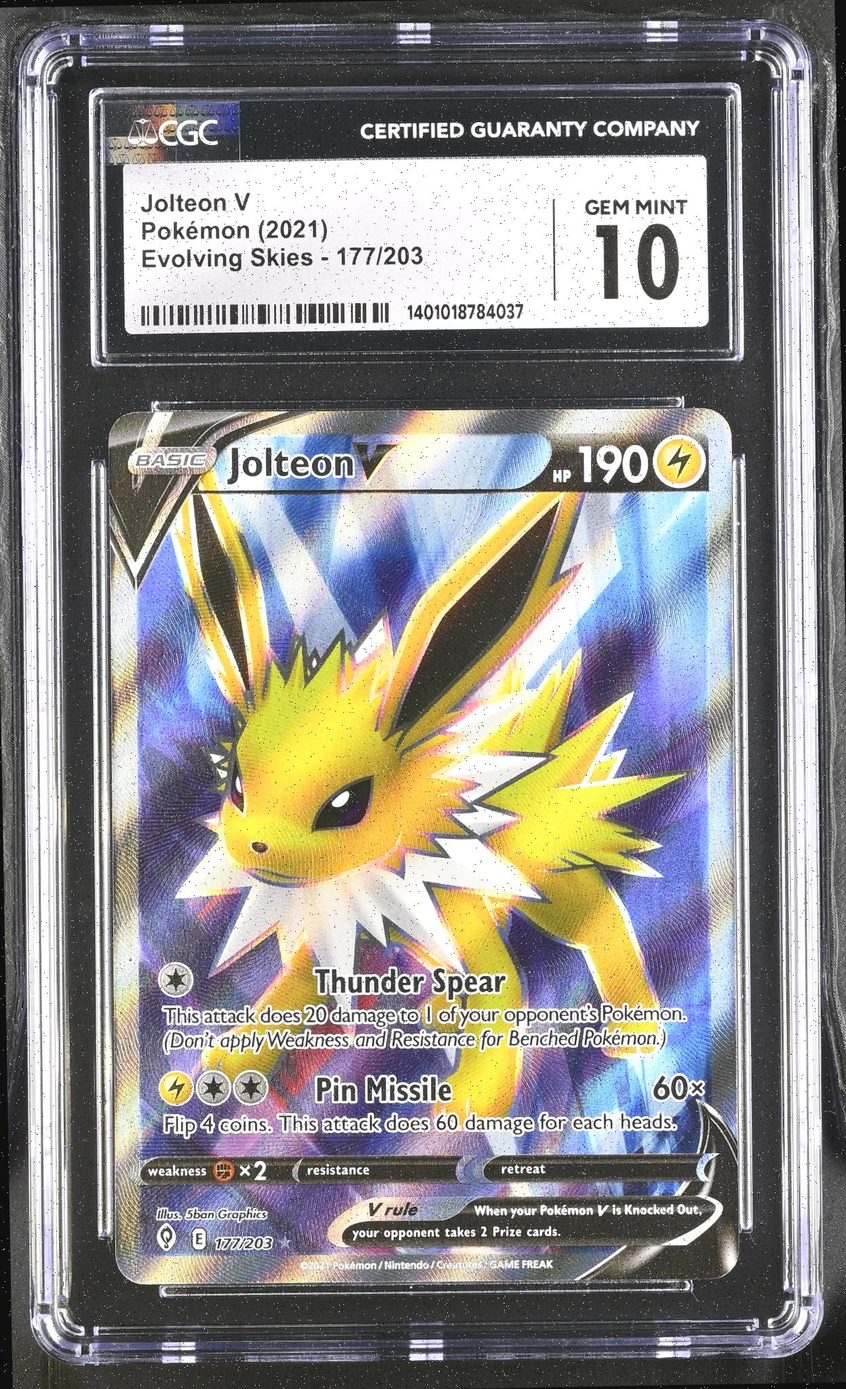card-2UtV: (108, 407, 739, 1285)
